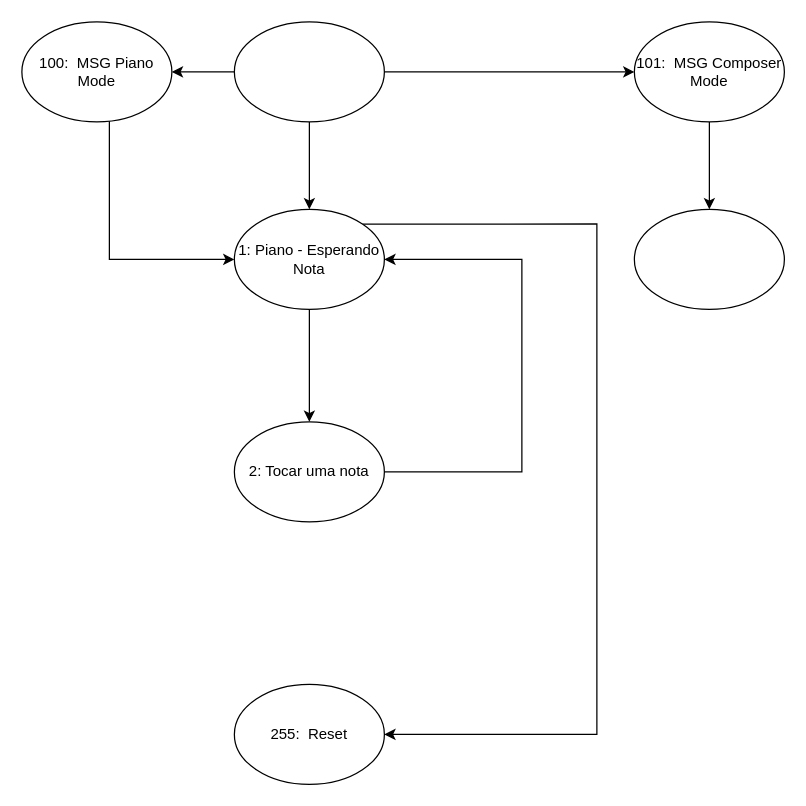
Image size: 806x806. Some labels were removed from this diagram. The shapes that lost their labels are listed below. From the top down, each one's centre as x and y in pixels, then its label:
(308,71): 0: Menu principal
(708,258): 50: Composer Mode
